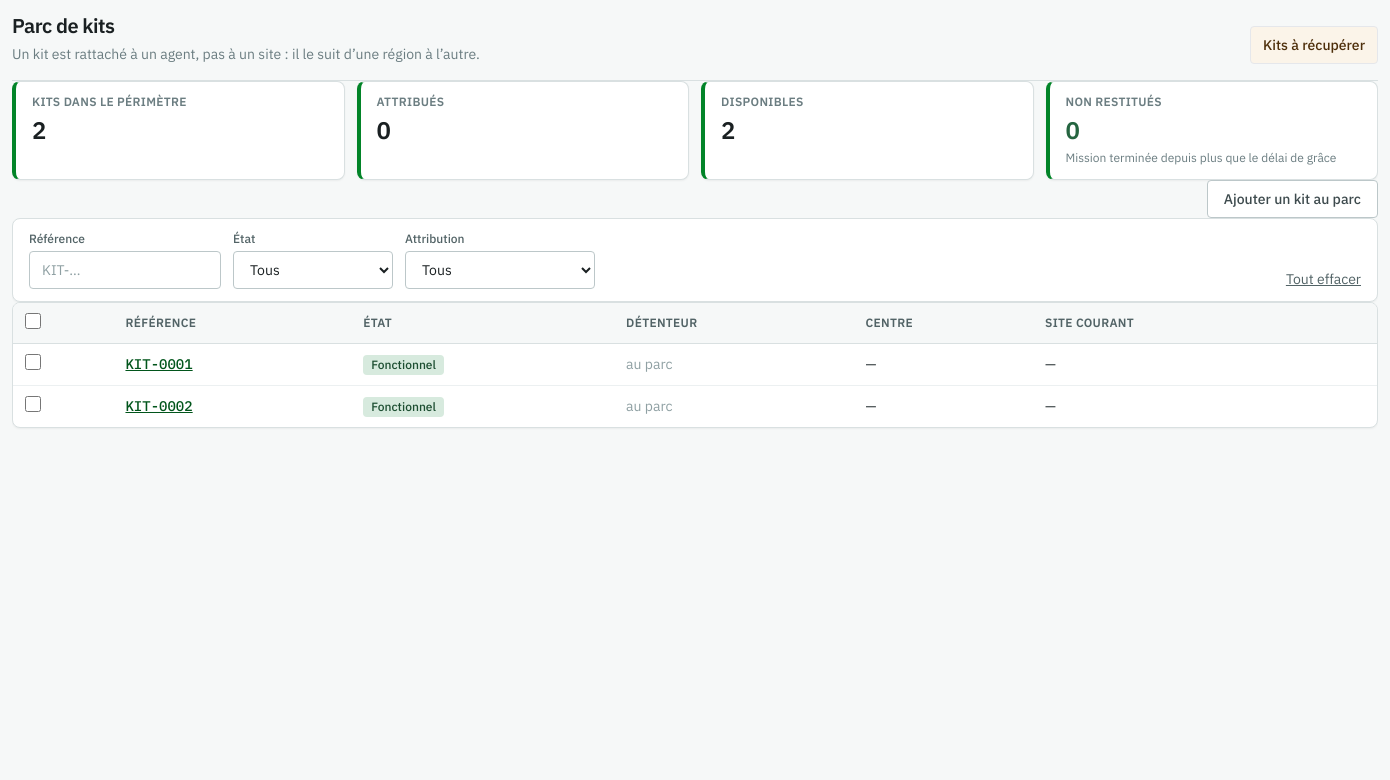
Scenario: supprimer des lignes cochées › affiche le motif de chaque ligne conservée
Click the checkbox named "Cocher toute la page" at [33, 320], box [25,312,41,328]
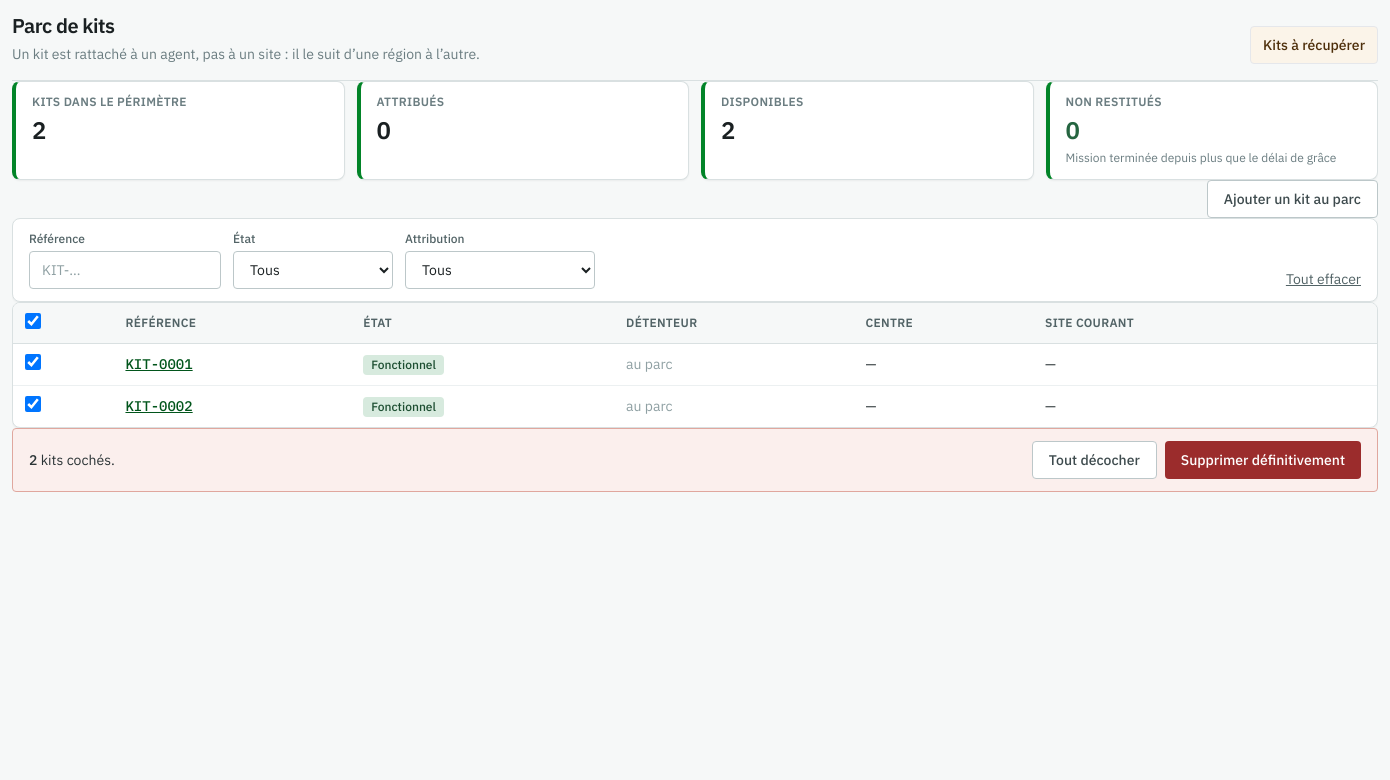
Click the button "Supprimer définitivement" at [1263, 460], box [1165,440,1361,478]
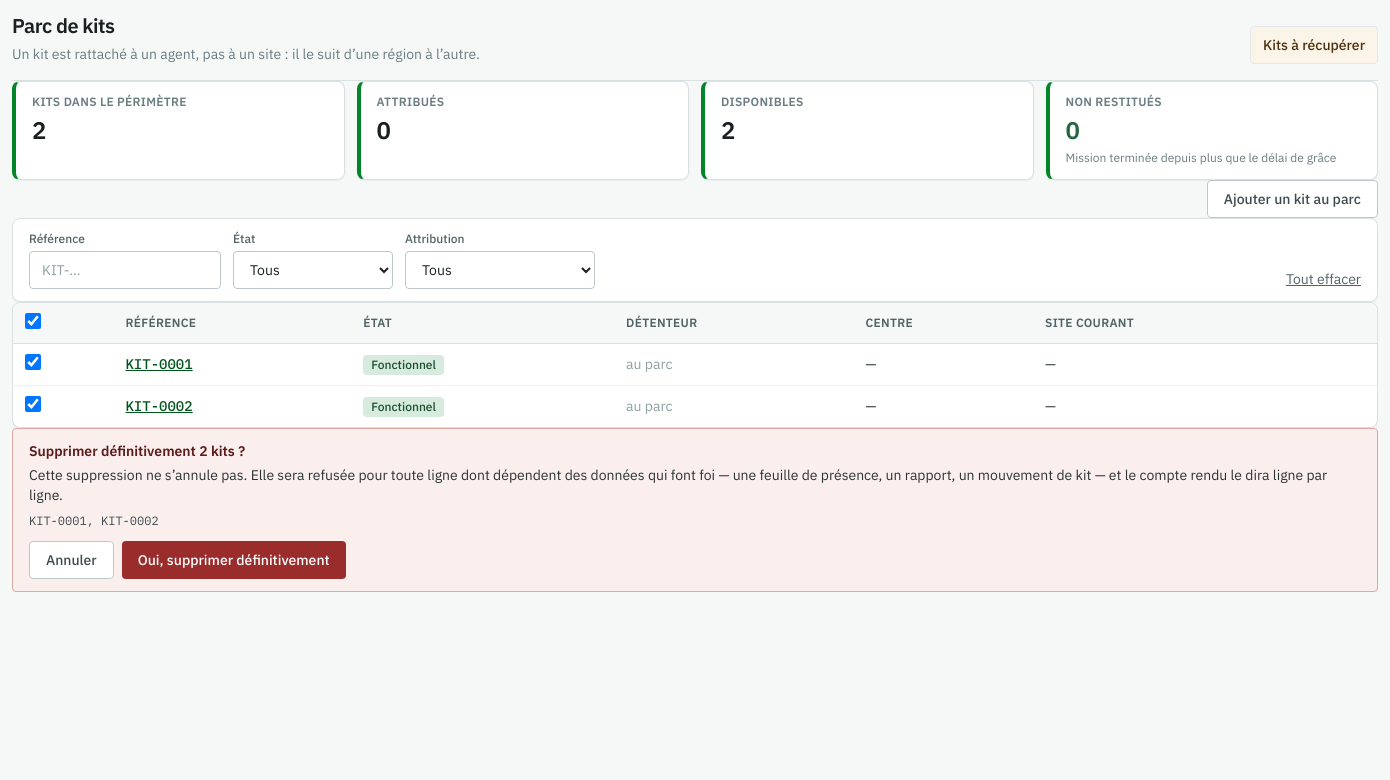
Click the button "Oui, supprimer définitivement" at [234, 560], box [122,540,346,578]
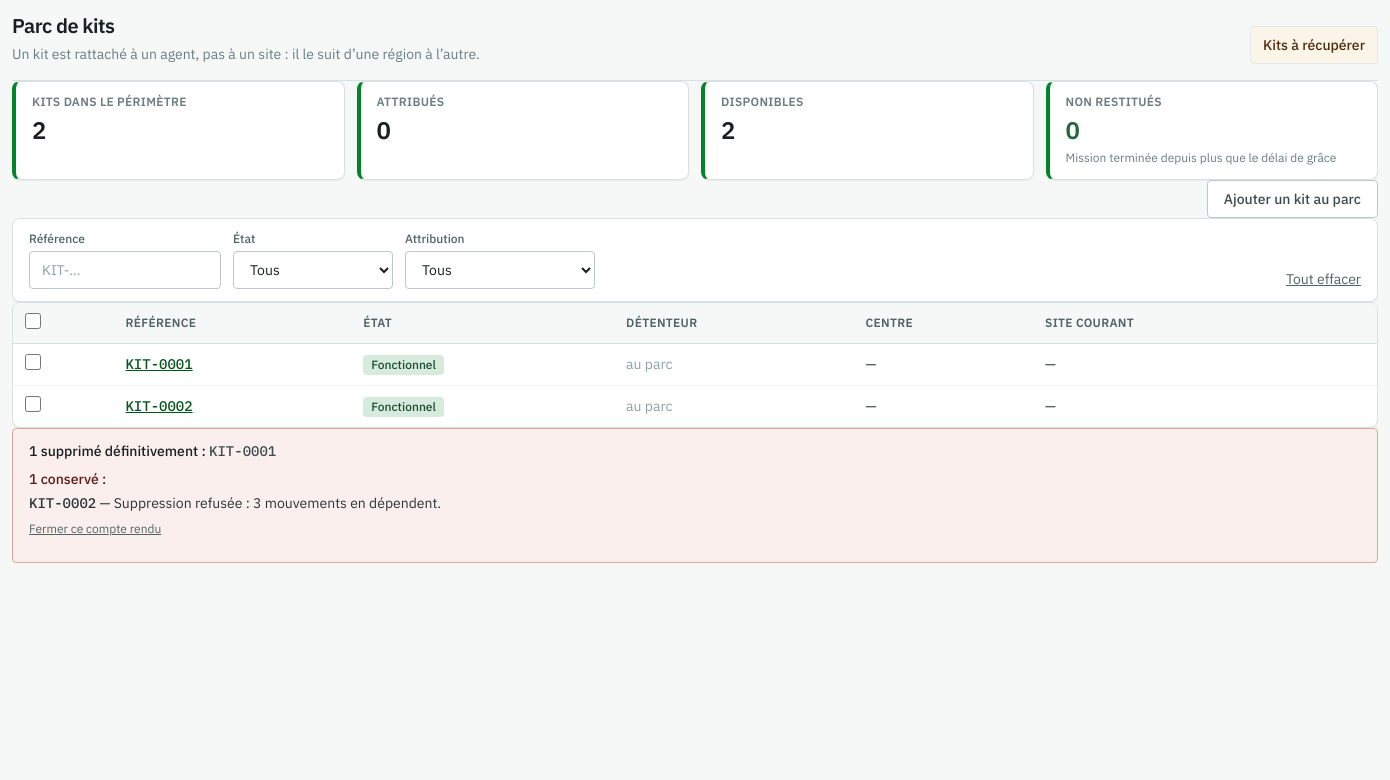
Expected: the text "KIT-0002" is shown, [29,494,96,512]
Expected: the list item "KIT-0002 — Suppression refusée : 3 mouvements en dépendent." is shown, [29,494,441,512]
